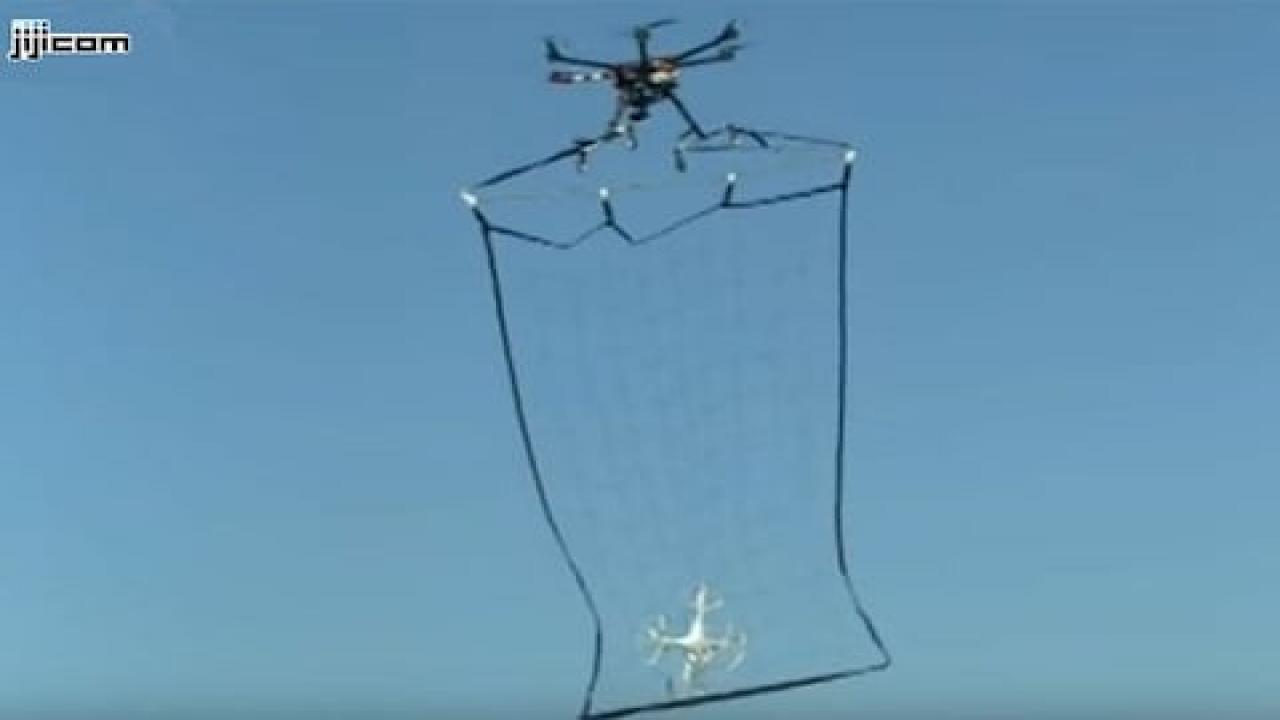Drone: (514, 10, 787, 158), (629, 575, 763, 704)
